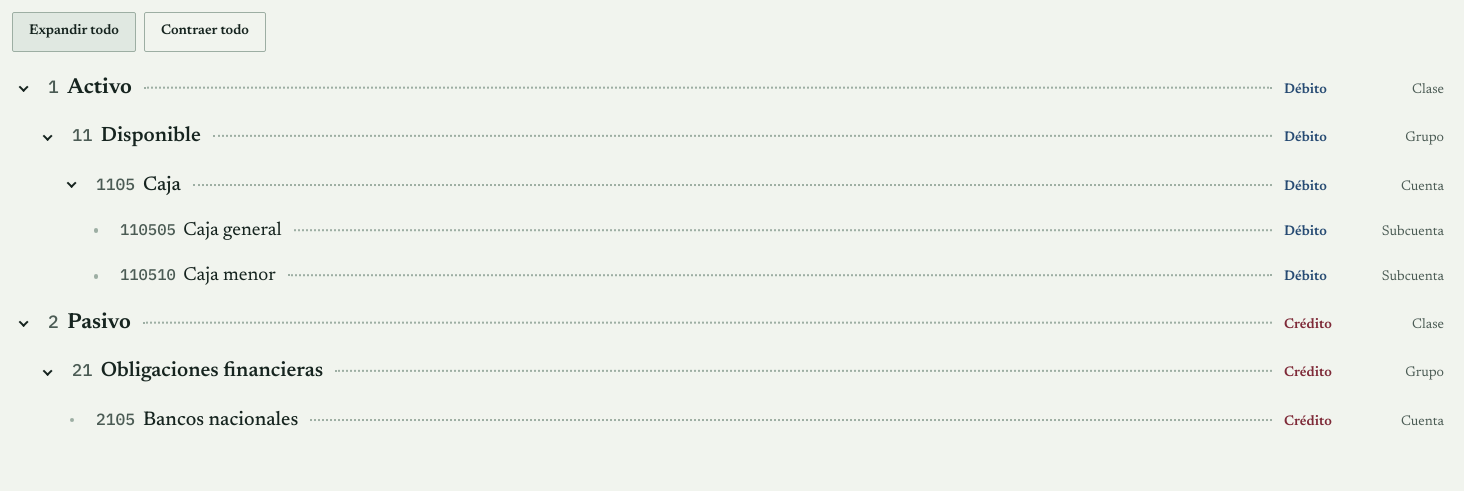
Test: AccountTree › actions › keeps the actions inside the row of the account they belong to
Click the text "Caja menor" at (230, 276), box top-left (183, 262), bottom-right (276, 291)
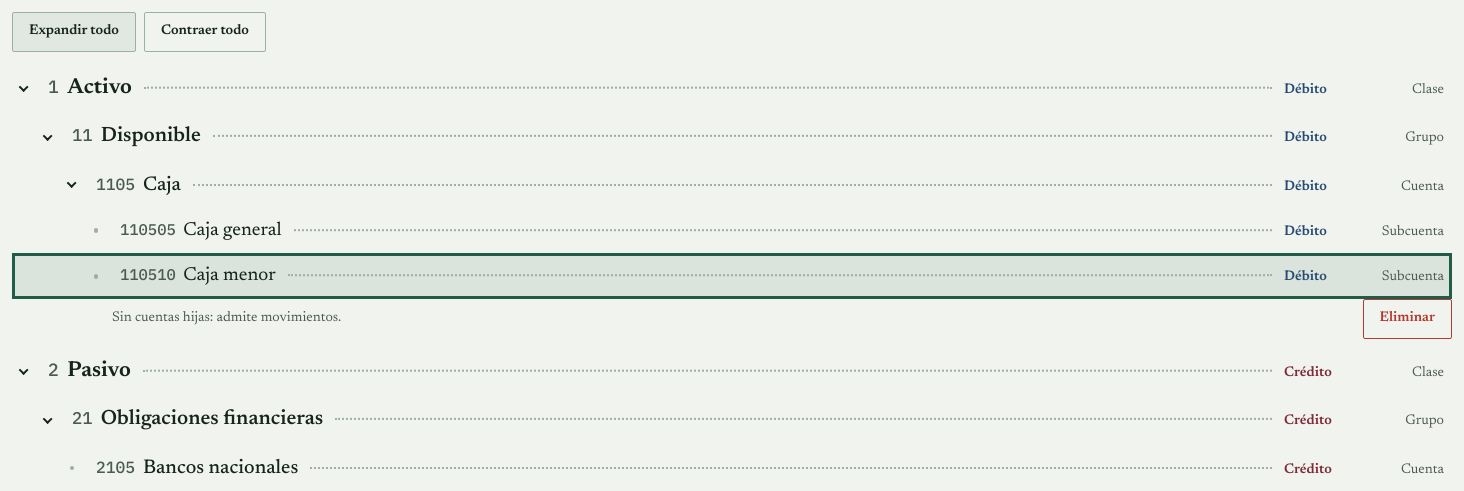
Expected: the button with aria-label "Eliminar 110510 Caja menor" is shown, top-left (1363, 299), bottom-right (1452, 339)
